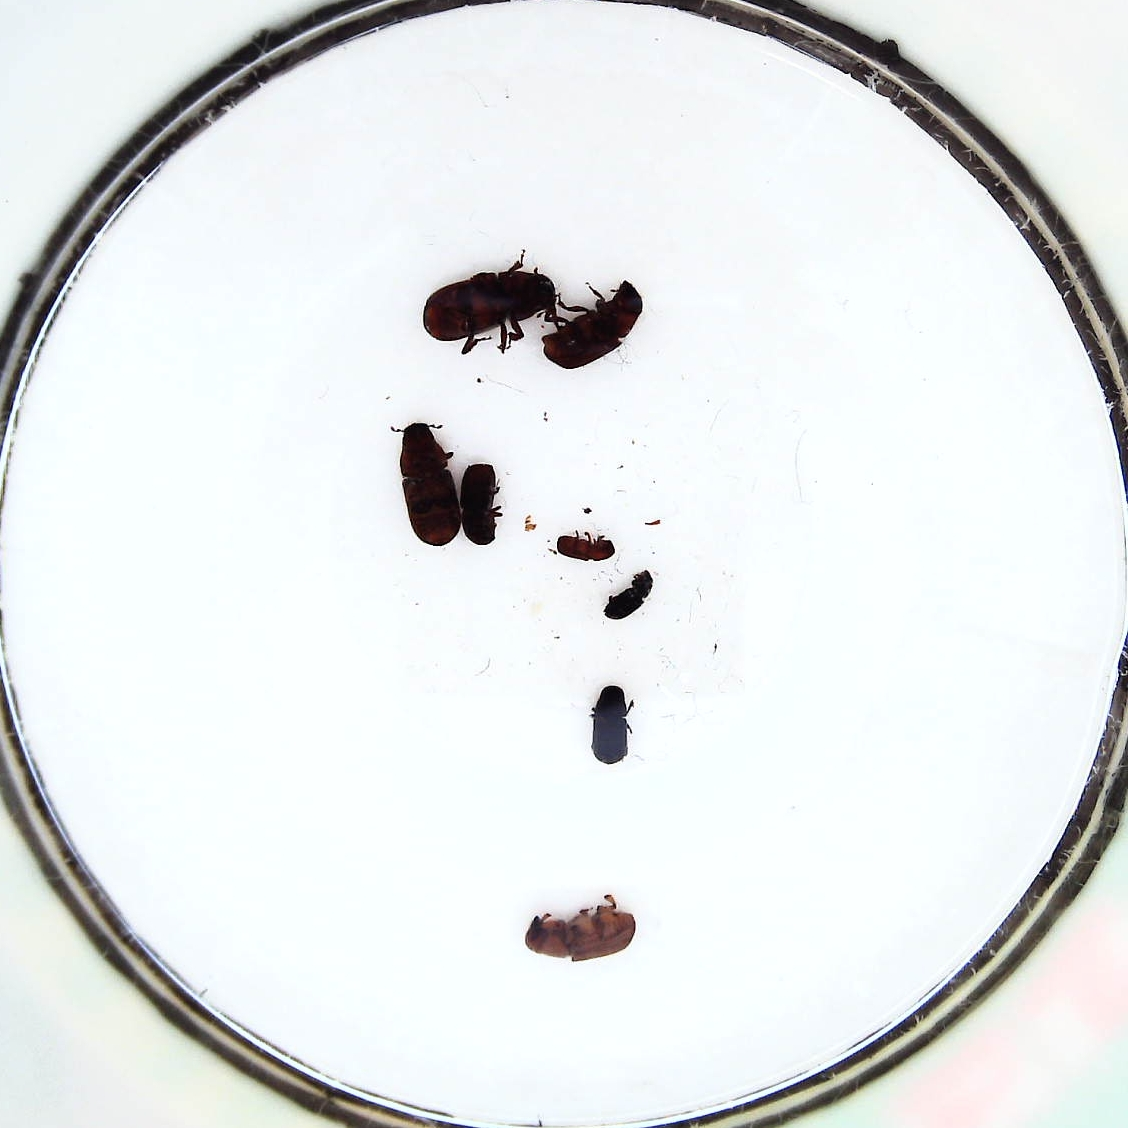Leconte: (419, 258, 552, 358), (521, 889, 639, 969), (544, 279, 647, 368), (395, 419, 459, 555)
Linnaeus: (459, 456, 503, 547)
acuminatus: (552, 532, 618, 566)
armandi: (591, 686, 637, 766)
coleoptera: (600, 569, 654, 620)
